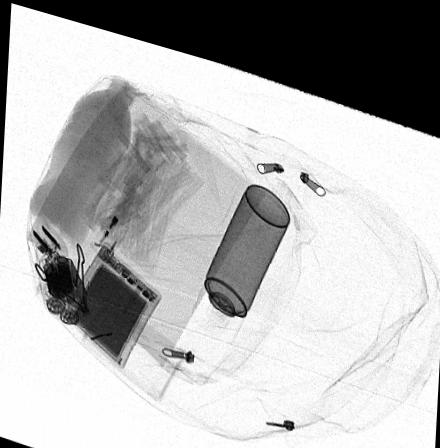Lighter: (69, 201, 130, 295)
Powerbank: (63, 240, 163, 364)
Sprayer: (193, 168, 291, 332)
